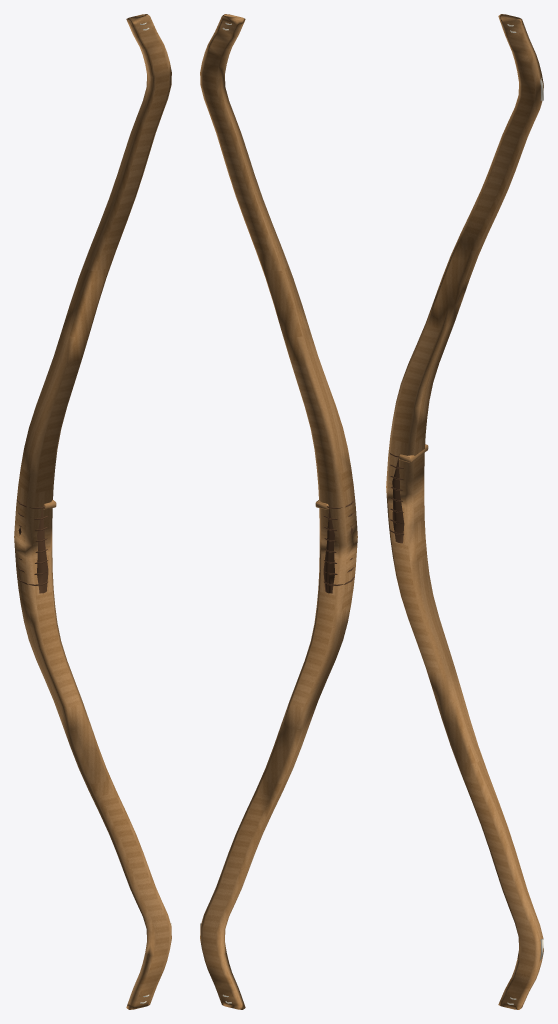
Rendered from bow_frame.glb.
The picture shows the model from 3 angles, left to right: view 1: azimuth 30°, elevation 25°; view 2: azimuth 150°, elevation 25°; view 3: azimuth 330°, elevation 25°; orthographic projection.
Visible parts, largest first — view 1: SM_bow; view 2: SM_bow; view 3: SM_bow.
Part boxes in pixels (x1,y1,x2,y2): SM_bow: (14, 14, 171, 1009); SM_bow: (200, 14, 357, 1009); SM_bow: (386, 14, 543, 1009).
Size of the model in its own units: 0.2174 by 1.35 by 0.048.
3 materials, 1 textured.
